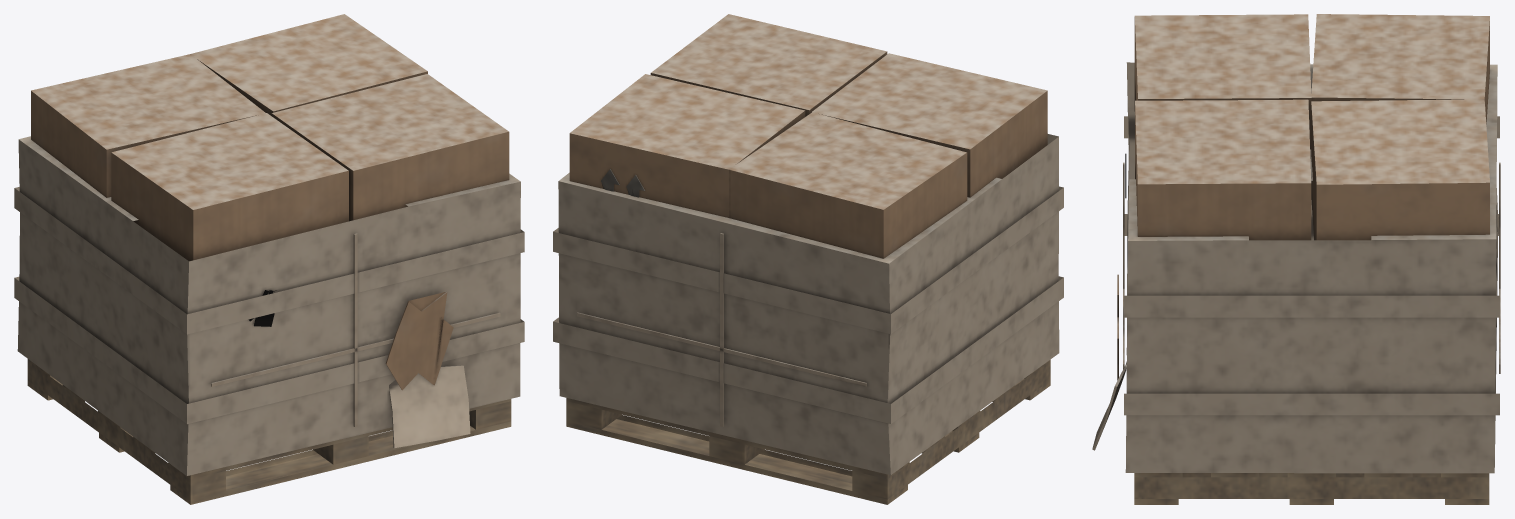
File: pallet_wrapped.fbx
3 views of the same model, side by side, from view 1: azimuth 30°, elevation 25°; view 2: azimuth 150°, elevation 25°; view 3: azimuth 270°, elevation 25° (orthographic). The views are drawn at different scales.
Parts seen in each view (by area): view 1: Body; view 2: Body; view 3: Body.
Part boxes in pixels (x1=…): Body: x1=14, y1=14, x2=524, y2=504; Body: x1=553, y1=14, x2=1063, y2=504; Body: x1=1092, y1=14, x2=1500, y2=504.
Size of the model in its own units: 5.26 by 4.38 by 5.06.
1 material, 1 textured.
